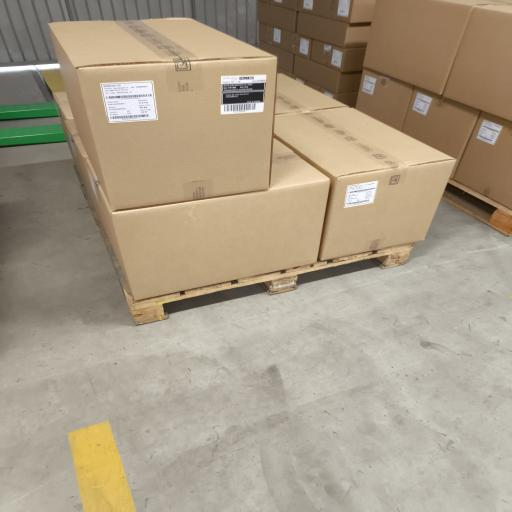pallet: (75, 167, 413, 325), (115, 244, 413, 324), (443, 180, 511, 236), (0, 124, 66, 146), (0, 102, 58, 120)
